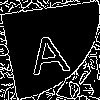A: (25, 25, 73, 76)
